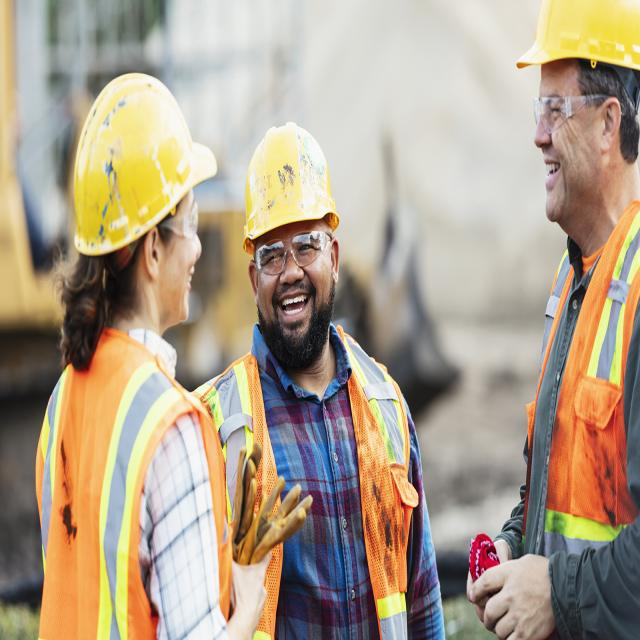Gloves: (225, 432, 316, 581)
Hard Hat: (68, 50, 222, 265), (233, 108, 344, 255), (510, 0, 640, 81)
Reflective Vest: (184, 321, 420, 640), (31, 343, 235, 640), (512, 195, 640, 640)
Safety Glasses: (524, 88, 635, 132), (254, 226, 338, 274), (149, 194, 214, 246)
